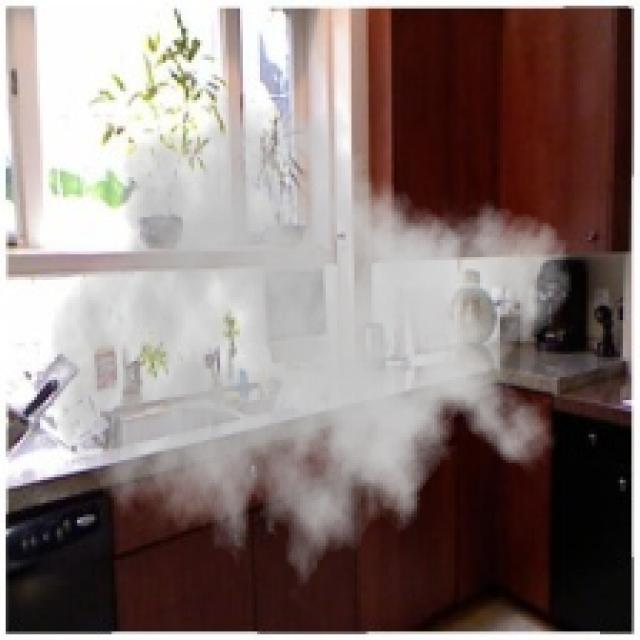smoke: (49, 74, 574, 609)
